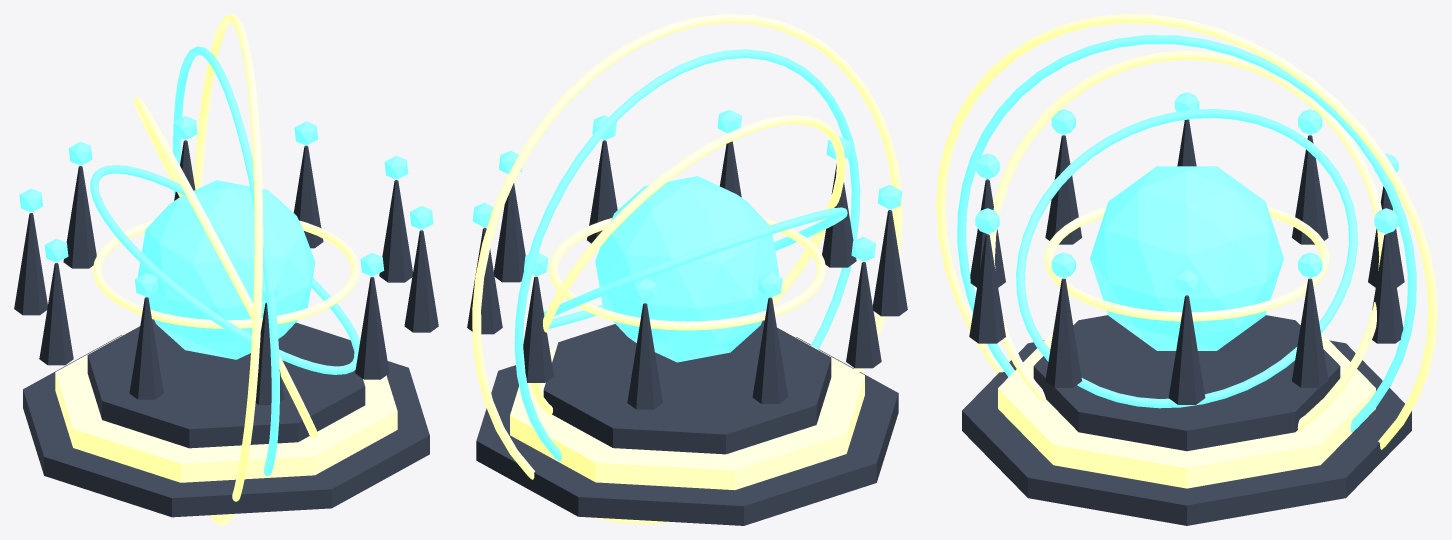
The model's file is gpu-blender-v22.glb.
The picture shows the model from 3 angles, left to right: view 1: azimuth 30°, elevation 25°; view 2: azimuth 150°, elevation 25°; view 3: azimuth 270°, elevation 25°; orthographic projection. The views are drawn at different scales.
Visible parts, largest first — view 1: Cylinder.002, Cylinder, SovereignCore_zothos-lite, Cylinder.001, Torus.004, Torus.003, Torus.001, Torus, Torus.002, Cone.004, Cone.008, Cone.005 (+6 smaller); view 2: Cylinder.002, SovereignCore_zothos-lite, Cylinder, Cylinder.001, Torus.004, Torus.003, Torus.002, Torus, Torus.001, Cone.005, Cone.003, Cone.006 (+7 smaller); view 3: SovereignCore_zothos-lite, Cylinder.002, Cylinder, Cylinder.001, Torus.004, Torus.003, Torus.001, Torus.002, Torus, Cone, Cone.008, Cone.001 (+7 smaller).
Part boxes in pixels (<box>): Cylinder.002: <box>87,319,365,448</box>; Cylinder: <box>23,335,429,517</box>; SovereignCore_zothos-lite: <box>137,180,315,359</box>; Cylinder.001: <box>55,326,397,482</box>; Torus.004: <box>194,14,263,525</box>; Torus.003: <box>173,46,279,475</box>; Torus.001: <box>90,165,360,374</box>; Torus: <box>93,220,359,328</box>; Torus.002: <box>133,97,318,437</box>; Cone.004: <box>14,213,47,315</box>; Cone.008: <box>355,277,389,379</box>; Cone.005: <box>39,263,73,365</box>; Cylinder.002: <box>543,320,831,454</box>; SovereignCore_zothos-lite: <box>595,176,779,362</box>; Cylinder: <box>476,337,898,525</box>; Cylinder.001: <box>510,328,864,490</box>; Torus.004: <box>472,14,902,524</box>; Torus.003: <box>514,49,860,461</box>; Torus.002: <box>530,115,845,415</box>; Torus: <box>549,218,825,330</box>; Torus.001: <box>544,207,847,328</box>; Cone.005: <box>846,262,881,368</box>; Cone.003: <box>627,303,662,409</box>; Cone.006: <box>873,210,907,316</box>; SovereignCore_zothos-lite: <box>1090,166,1283,350</box>; Cylinder.002: <box>1033,315,1340,451</box>; Cylinder: <box>962,340,1411,525</box>; Cylinder.001: <box>998,332,1375,488</box>; Torus.004: <box>936,14,1437,449</box>; Torus.003: <box>957,35,1416,432</box>; Torus.001: <box>1016,109,1357,408</box>; Torus.002: <box>988,50,1385,431</box>; Torus: <box>1044,206,1329,321</box>; Cone: <box>1168,295,1205,404</box>; Cone.008: <box>969,234,1005,343</box>; Cone.001: <box>1292,278,1328,387</box>.
Size of the model in its own units: 4.41 by 5.33 by 4.9.
